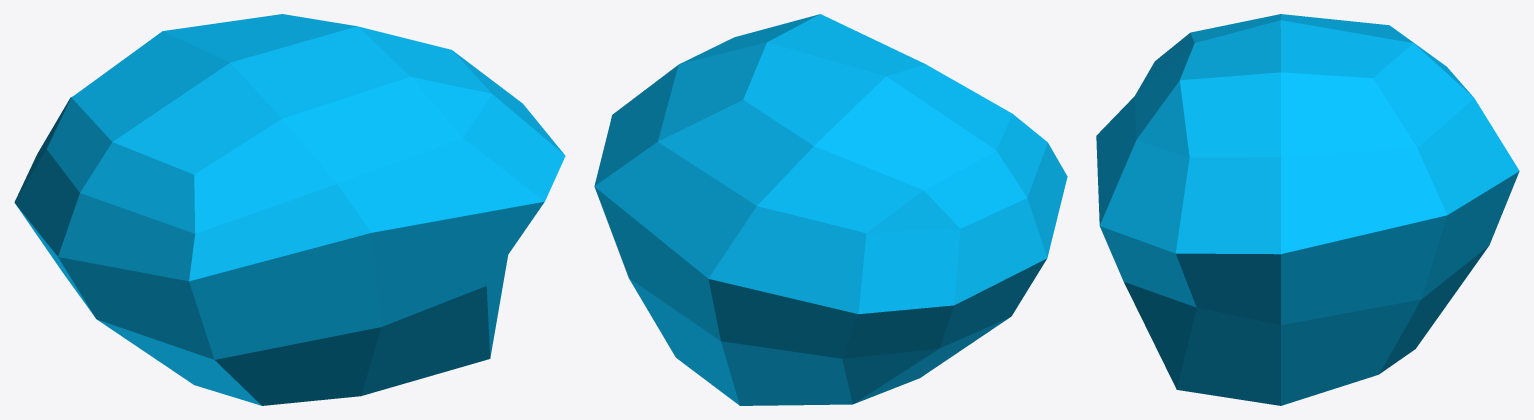
File: forestpack_stone_large_1_meshCollider.FBX
The picture shows the model from 3 angles, left to right: view 1: azimuth 30°, elevation 25°; view 2: azimuth 150°, elevation 25°; view 3: azimuth 270°, elevation 25°; orthographic projection. The views are drawn at different scales.
Parts seen in each view (by area): view 1: forestpack_stone_large_1_meshCollider; view 2: forestpack_stone_large_1_meshCollider; view 3: forestpack_stone_large_1_meshCollider.
Part boxes in pixels (x1,y1,x2,y2): forestpack_stone_large_1_meshCollider: (14, 14, 565, 405); forestpack_stone_large_1_meshCollider: (594, 14, 1067, 405); forestpack_stone_large_1_meshCollider: (1096, 14, 1519, 405).
Bounding box in the file's own units: 101 × 73.05 × 86.87.
